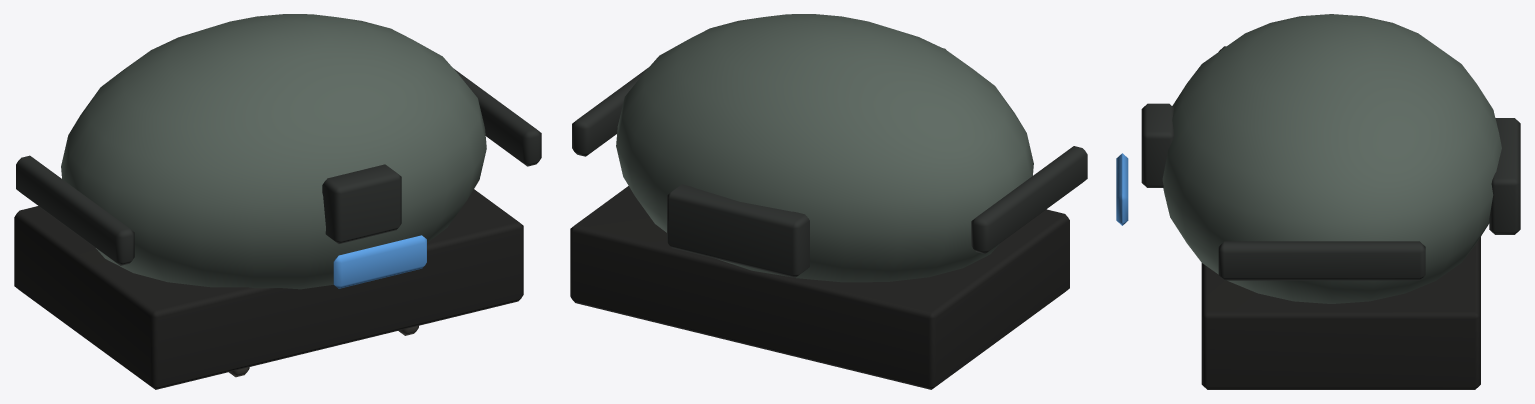
The model's file is approved_helmet_loot_v1.glb.
The picture shows the model from 3 angles, left to right: view 1: azimuth 30°, elevation 25°; view 2: azimuth 150°, elevation 25°; view 3: azimuth 270°, elevation 25°; orthographic projection.
Parts seen in each view (by area): view 1: helmet_dome_shell, helmet_cut_shadow, helmet_front_mount, helmet_left_rail, helmet_id_patch, helmet_right_rail; view 2: helmet_dome_shell, helmet_cut_shadow, helmet_rear_counterweight, helmet_left_rail, helmet_right_rail; view 3: helmet_dome_shell, helmet_cut_shadow, helmet_right_rail, helmet_rear_counterweight, helmet_front_mount, helmet_id_patch.
Part boxes in pixels (x1,y1,x2,y2): helmet_dome_shell: (61,14,486,289); helmet_cut_shadow: (14,189,523,389); helmet_front_mount: (322,164,401,243); helmet_left_rail: (16,155,134,265); helmet_id_patch: (333,235,426,288); helmet_right_rail: (453,68,541,166); helmet_dome_shell: (616,14,1033,282); helmet_cut_shadow: (570,186,1069,389); helmet_rear_counterweight: (667,184,809,277); helmet_left_rail: (971,146,1087,253); helmet_right_rail: (572,67,648,156); helmet_dome_shell: (1162,14,1501,303); helmet_cut_shadow: (1201,237,1480,389); helmet_right_rail: (1218,241,1425,280); helmet_rear_counterweight: (1489,118,1520,234); helmet_front_mount: (1141,103,1174,187); helmet_id_patch: (1116,153,1128,225).
Size of the model in its own units: 1 by 0.6325 by 0.84.
